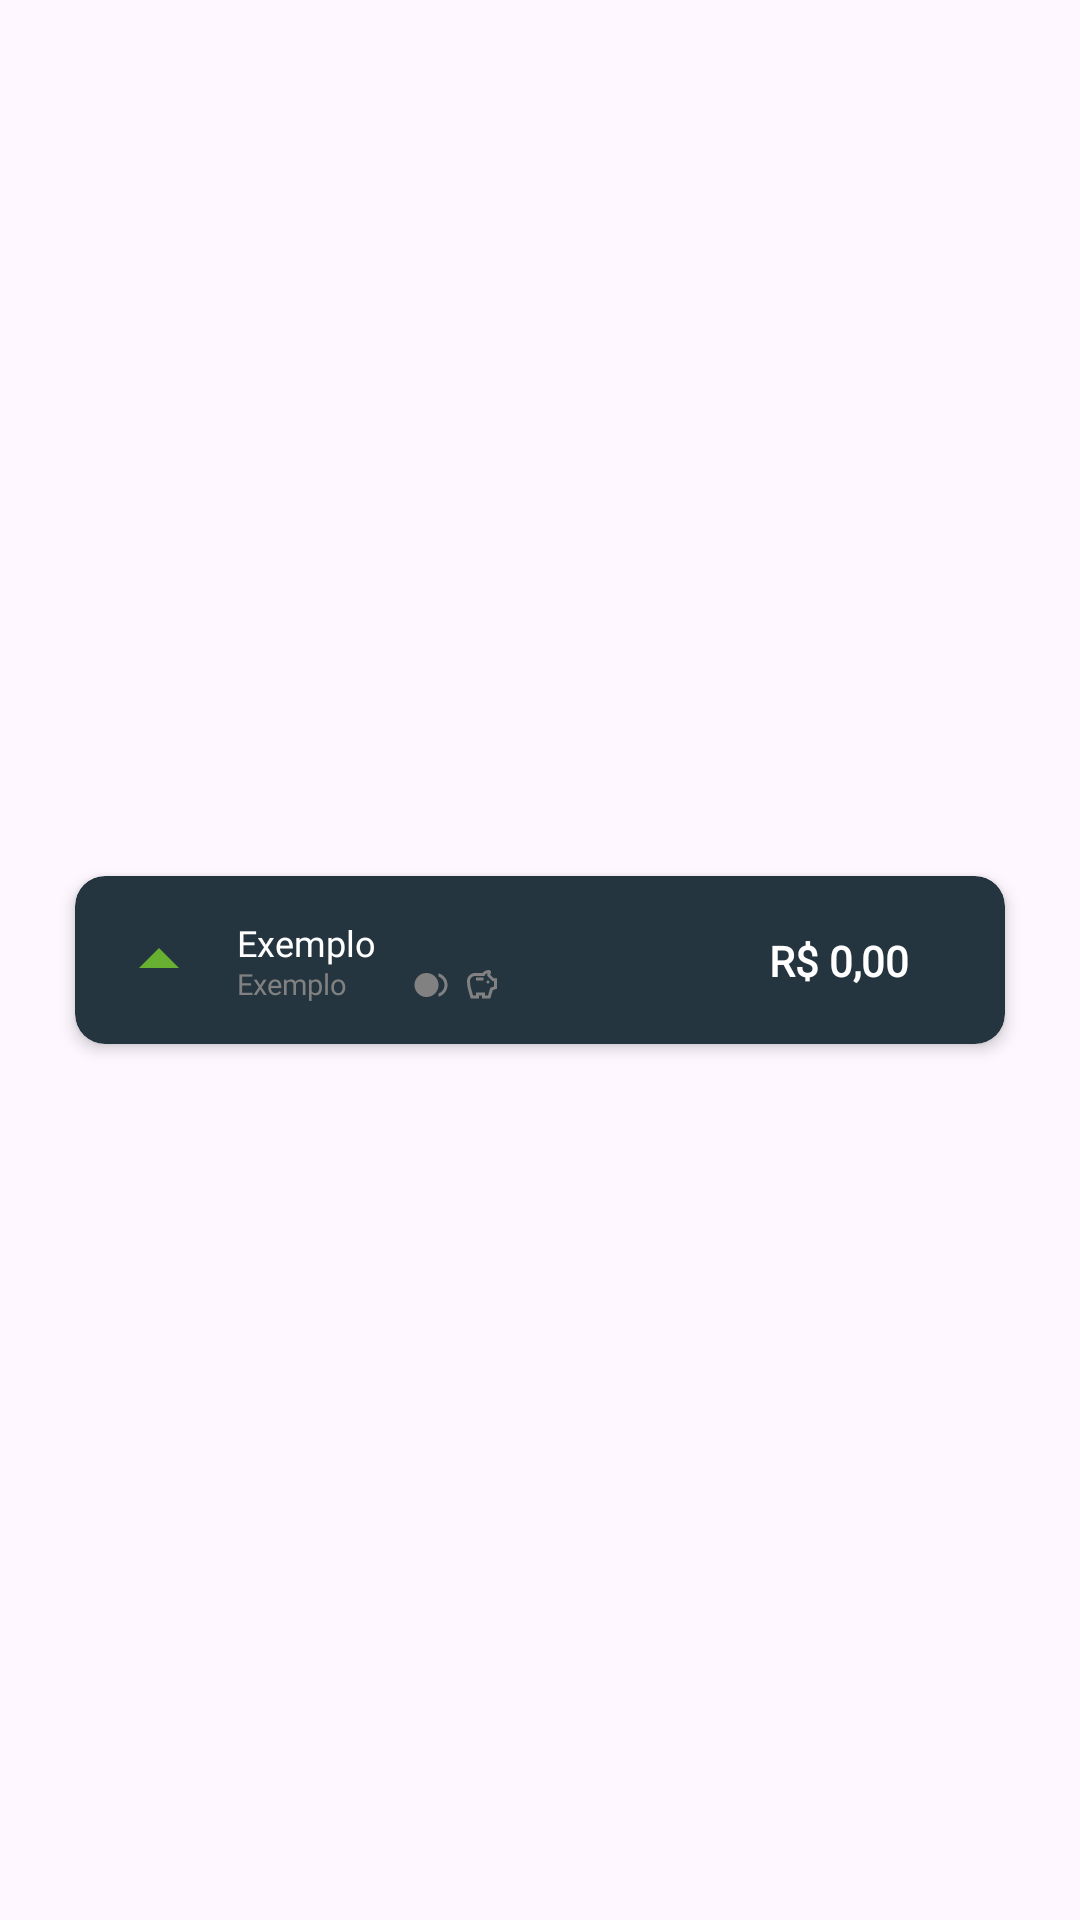

Screen size 1080 x 1920. Icon name, then its center in pixels as (x=x, y=y):
arrow drop up: (x=159, y=958)
savings: (x=482, y=984)
smart record: (x=431, y=985)
